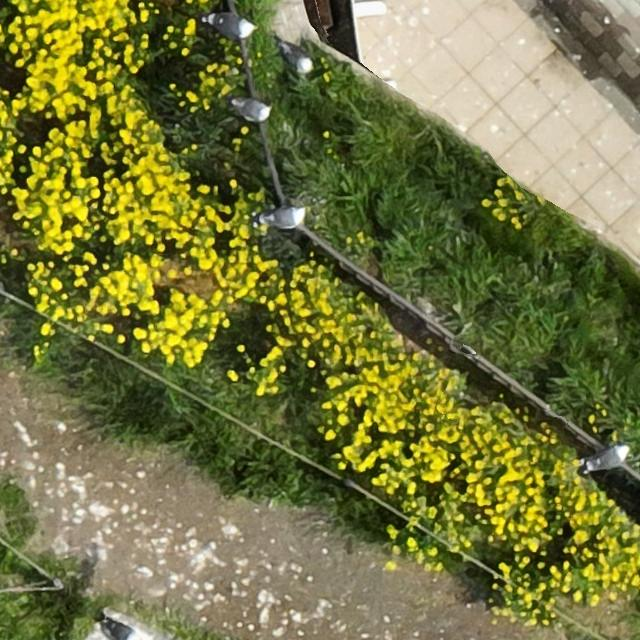umineko: (208, 15, 253, 38), (260, 207, 304, 228), (587, 445, 625, 468), (230, 98, 269, 119), (283, 46, 313, 71), (108, 620, 138, 640)
